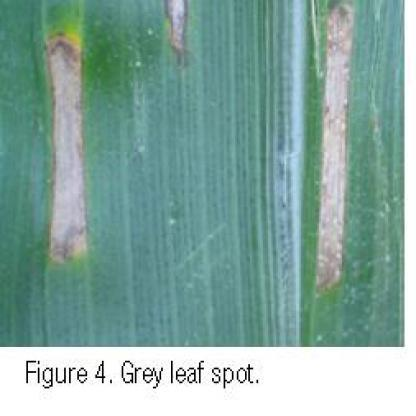Corn Gray leaf spot: (1, 4, 404, 346)
